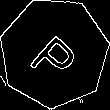P_NE: (24, 22, 84, 84)
